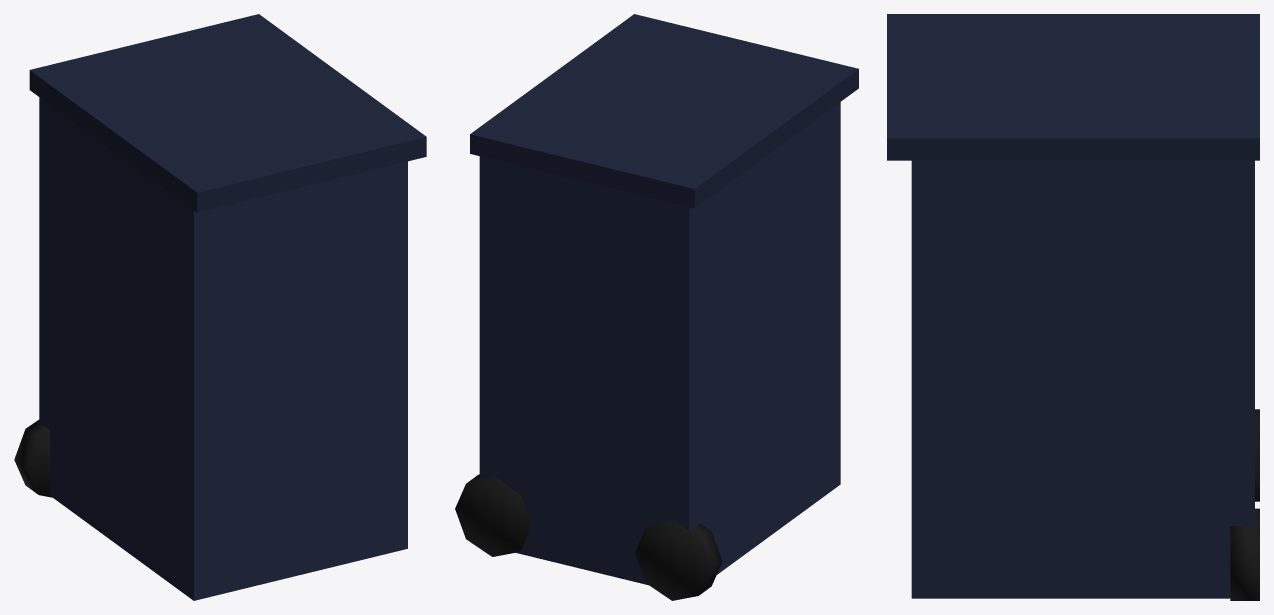
File: SM_Bin_2_Wood.glb
3 renders of one model, left to right at view 1: azimuth 30°, elevation 25°; view 2: azimuth 150°, elevation 25°; view 3: azimuth 270°, elevation 25°, orthographic. The views are drawn at different scales.
Parts seen in each view (by area): view 1: SM_Bin_2_Wood; view 2: SM_Bin_2_Wood; view 3: SM_Bin_2_Wood.
Boxes of the visible parts, x1,y1,x2,y2 form: SM_Bin_2_Wood: [14, 14, 426, 600]; SM_Bin_2_Wood: [455, 14, 858, 600]; SM_Bin_2_Wood: [887, 14, 1259, 600].
Size of the model in its own units: 0.68 by 1.07 by 0.76.
